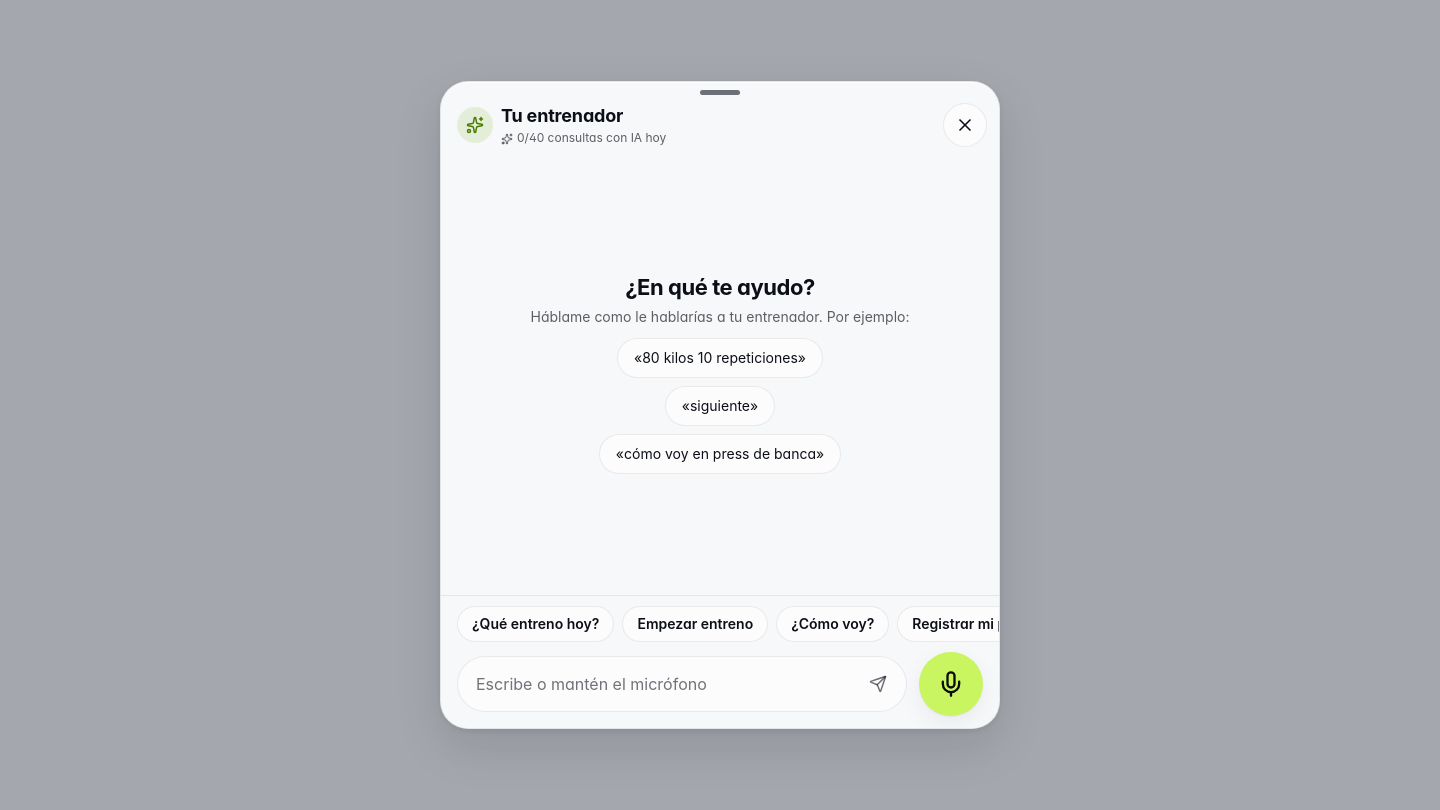
Test: AssistantSheet › server failure degrades to a useful local answer
The width and height of the screenshot is (1440, 810).
Type "cuéntame un chiste de gimnasio" into the field named "Mensaje para el asistente" at (663, 684), box top-left (474, 657), bottom-right (852, 711)
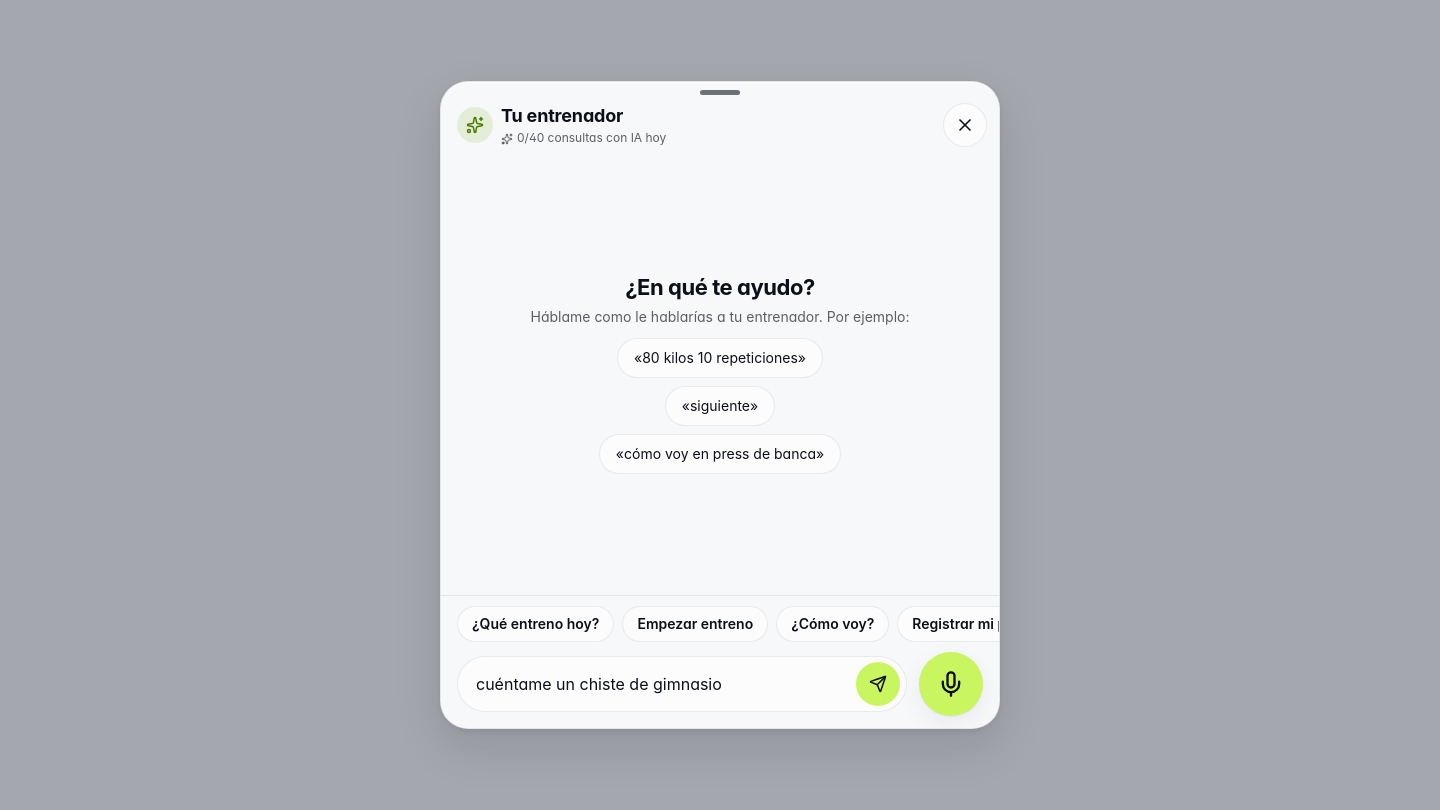
Submit the form named "Mensaje para el asistente", box top-left (457, 652), bottom-right (983, 716)
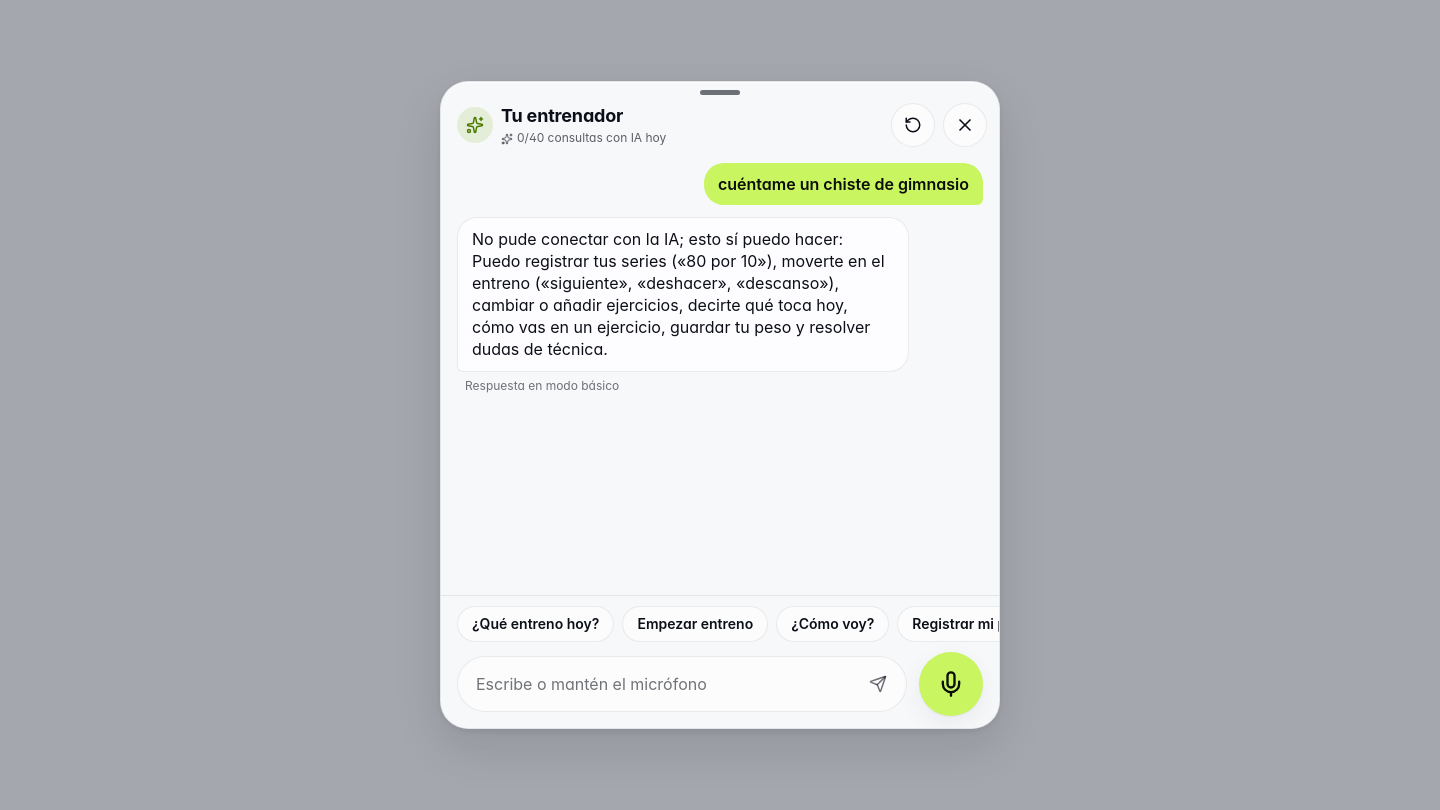
Result: the text "No pude conectar con la IA" is shown at top-left (472, 229), bottom-right (889, 360)
Result: the text "Respuesta en modo básico" is shown at top-left (457, 378), bottom-right (619, 394)
